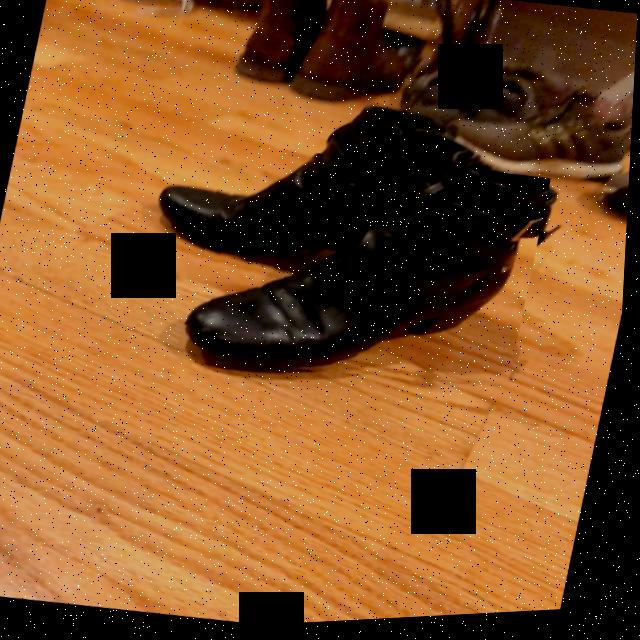shoe: (195, 173, 549, 370)
